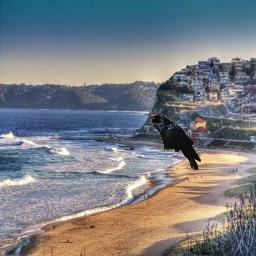Crow: (146, 114, 201, 170)
